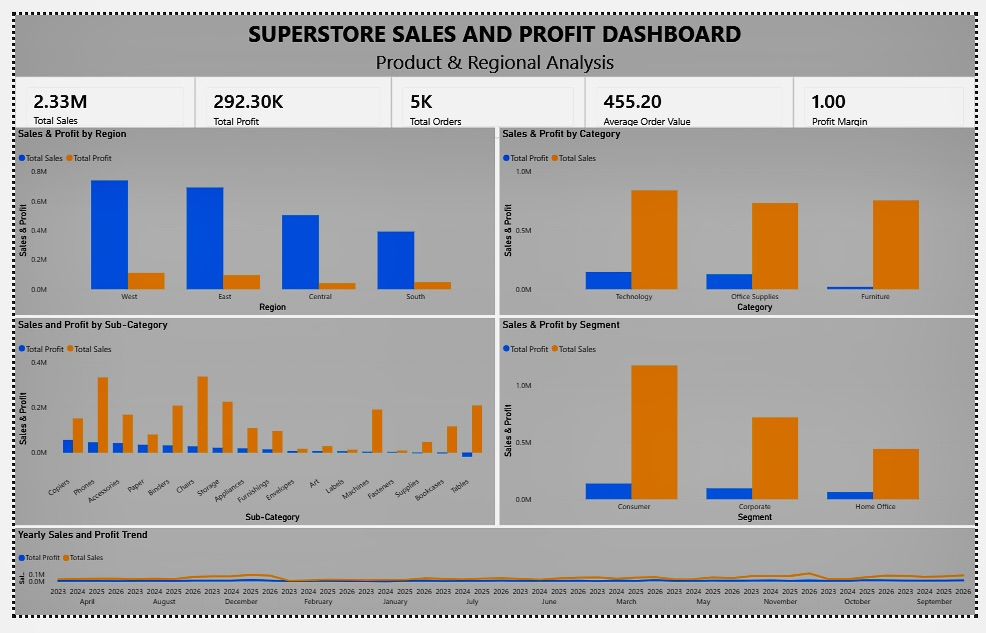

The dashboard page shown, as its layout file describes it:
{"tool":"powerbi","page":{"name":"Page 1","canvas":[1600,1000],"ordinal":0},"visuals":[{"type":"cardVisual","fields":{"Data":["orders_cleaned.Total Sales"]},"box":[0,102.9,300,101.5],"z":0},{"type":"cardVisual","fields":{"Data":["orders_cleaned.Total Profit"]},"box":[300,102.5,327.5,102.5],"z":1000},{"type":"cardVisual","fields":{"Data":["orders_cleaned.Total Orders"]},"box":[627.5,102.5,322.5,102.5],"z":2000},{"type":"cardVisual","fields":{"Data":["orders_cleaned.Average Order Value"]},"box":[950,102.5,347.5,102.5],"z":3000},{"type":"cardVisual","fields":{"Data":["orders_cleaned.Profit Margin"]},"box":[1297.5,102.5,302.5,102.5],"z":4000},{"type":"clusteredColumnChart","title":"Sales & Profit by Region","fields":{"Category":["orders_cleaned.Region"],"Y":["orders_cleaned.Total Sales","orders_cleaned.Total Profit"]},"box":[0,187.5,800,312.5],"z":5000},{"type":"clusteredColumnChart","title":"Sales & Profit by Category","fields":{"Category":["orders_cleaned.Category"],"Y":["orders_cleaned.Total Profit","orders_cleaned.Total Sales"]},"box":[807.5,187.5,792.5,312.5],"z":6000},{"type":"clusteredColumnChart","title":"Sales and Profit by Sub-Category","fields":{"Category":["orders_cleaned.Sub-Category"],"Y":["orders_cleaned.Total Profit","orders_cleaned.Total Sales"]},"box":[0,505,800,345],"z":7000},{"type":"clusteredColumnChart","title":"Sales & Profit by Segment","fields":{"Category":["orders_cleaned.Segment"],"Y":["orders_cleaned.Total Profit","orders_cleaned.Total Sales"]},"box":[807.5,505,792.5,345],"z":8000},{"type":"lineChart","title":"Yearly Sales and Profit Trend","fields":{"Y":["orders_cleaned.Total Profit","orders_cleaned.Total Sales"],"Category":["orders_cleaned.Order Month","orders_cleaned.Order Year"]},"box":[0,855,1600,145],"z":9000},{"type":"textbox","box":[0,0,1600,102.5],"z":10000}]}

Visuals, with their boxes in screenshot pixels (x1, y1, x2, y2), scaled from the page's 1600x1000 canvas onto the 986x633 screenshot:
cardVisual - orders_cleaned.Total Sales: x1=0 y1=65 x2=185 y2=129
cardVisual - orders_cleaned.Total Profit: x1=185 y1=65 x2=387 y2=130
cardVisual - orders_cleaned.Total Orders: x1=387 y1=65 x2=585 y2=130
cardVisual - orders_cleaned.Average Order Value: x1=585 y1=65 x2=800 y2=130
cardVisual - orders_cleaned.Profit Margin: x1=800 y1=65 x2=985 y2=130
"Sales & Profit by Region" clusteredColumnChart: x1=0 y1=119 x2=493 y2=316
"Sales & Profit by Category" clusteredColumnChart: x1=498 y1=119 x2=985 y2=316
"Sales and Profit by Sub-Category" clusteredColumnChart: x1=0 y1=320 x2=493 y2=538
"Sales & Profit by Segment" clusteredColumnChart: x1=498 y1=320 x2=985 y2=538
"Yearly Sales and Profit Trend" lineChart: x1=0 y1=541 x2=985 y2=632
textbox: x1=0 y1=0 x2=985 y2=65
